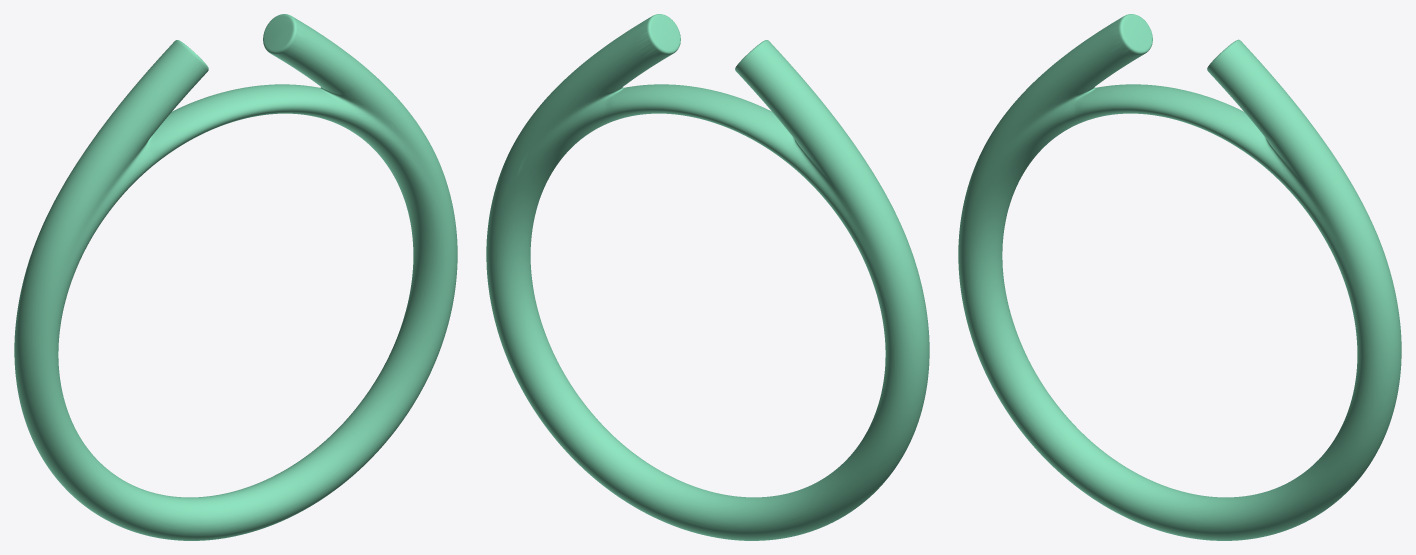
3 views of the same model, side by side, from view 1: azimuth 30°, elevation 25°; view 2: azimuth 150°, elevation 25°; view 3: azimuth 330°, elevation 25° (orthographic).
Visible parts, largest first — view 1: Metal02; view 2: Metal02; view 3: Metal02.
Part boxes in pixels (x1,y1,x2,y2): Metal02: (14,14,457,540); Metal02: (486,14,929,540); Metal02: (958,14,1401,540).
Bounding box in the file's own units: 20.9 × 23.05 × 1.99.
